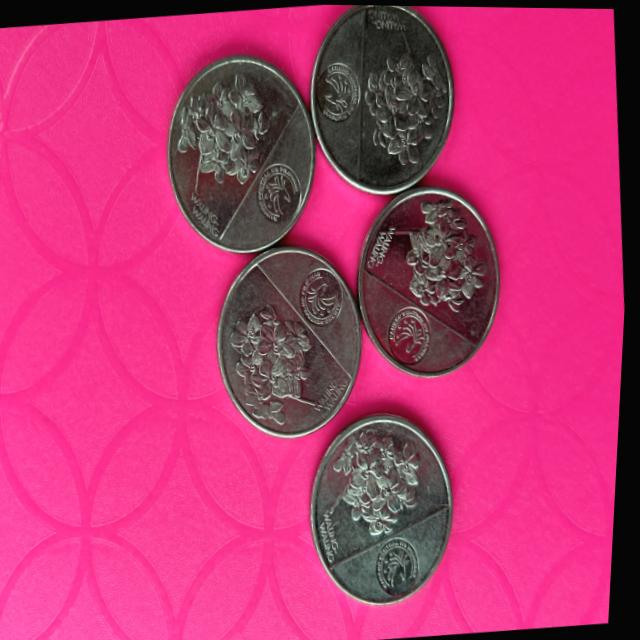1_New_Back: (169, 67, 282, 200), (228, 290, 312, 420), (357, 46, 445, 161), (340, 427, 425, 542), (400, 205, 484, 308)
